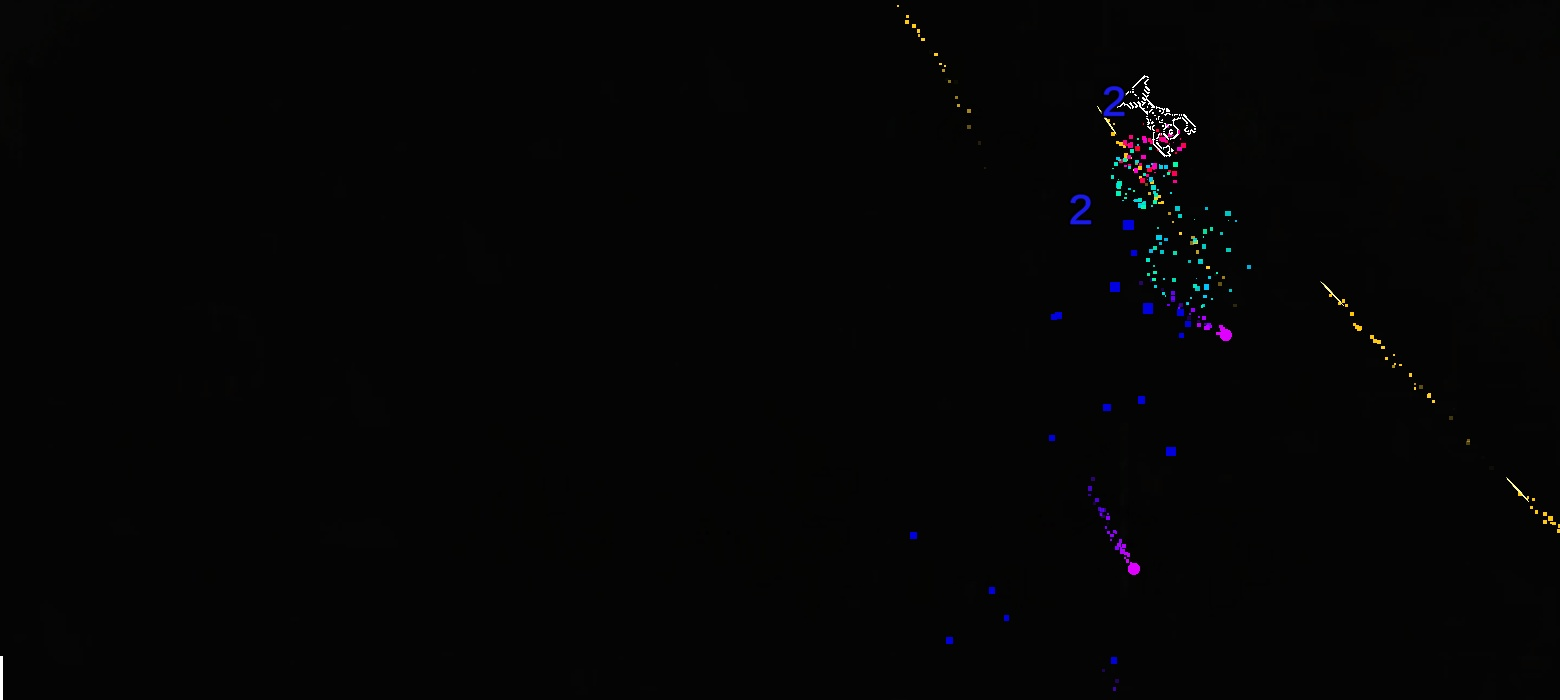enemy: (1115, 74, 1197, 158)
